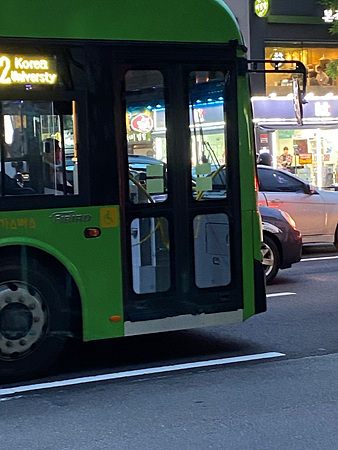entrance: (118, 44, 247, 313)
